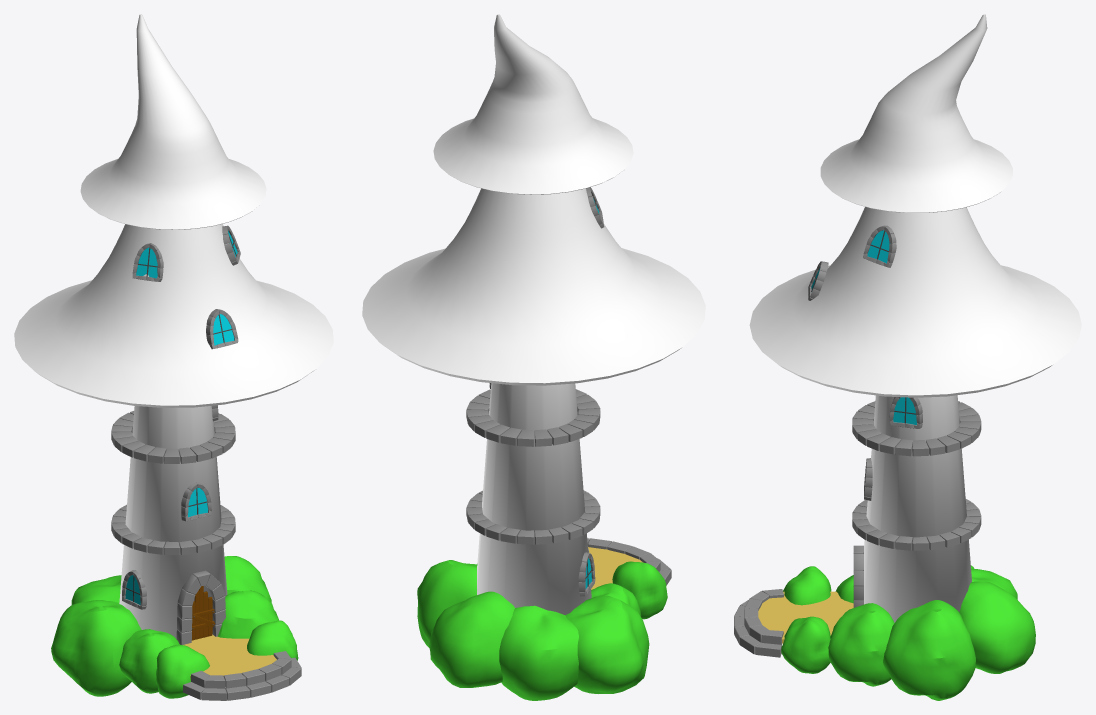
Rendered from torre_magos.glb.
The picture shows the model from 3 angles, left to right: view 1: azimuth 30°, elevation 25°; view 2: azimuth 150°, elevation 25°; view 3: azimuth 270°, elevation 25°; orthographic projection. The views are drawn at different scales.
Parts seen in each view (by area): view 1: Tejado01, Tejado02, Cuerpo Torre, Sphere.003, Escalones, Piedra Torre 02, Piedra Torre 01, Sphere.004, Suelo, Sphere.002, Piedras Puerta, Sphere.001 (+8 smaller); view 2: Tejado01, Tejado02, Cuerpo Torre, Sphere.005, Sphere.003, Sphere.006, Piedra Torre 02, Sphere.007, Piedra Torre 01, Sphere.001, Suelo, Escalones (+2 smaller); view 3: Tejado01, Tejado02, Cuerpo Torre, Sphere.007, Sphere.006, Sphere.002, Piedra Torre 02, Piedra Torre 01, Sphere, Suelo, Escalones, Sphere.001 (+4 smaller).
Part boxes in pixels (bbox=[...]): Tejado01: bbox=[14, 224, 333, 407]; Tejado02: bbox=[80, 14, 266, 229]; Cuerpo Torre: bbox=[119, 406, 227, 638]; Sphere.003: bbox=[51, 600, 141, 696]; Escalones: bbox=[183, 651, 301, 700]; Piedra Torre 02: bbox=[111, 411, 235, 463]; Piedra Torre 01: bbox=[111, 504, 235, 554]; Sphere.004: bbox=[119, 629, 179, 693]; Suelo: bbox=[183, 634, 276, 679]; Sphere.002: bbox=[217, 590, 279, 638]; Piedras Puerta: bbox=[176, 570, 225, 644]; Sphere.001: bbox=[156, 644, 209, 698]; Tejado01: bbox=[362, 188, 705, 385]; Tejado02: bbox=[433, 14, 633, 194]; Cuerpo Torre: bbox=[477, 383, 591, 614]; Sphere.005: bbox=[499, 605, 578, 700]; Sphere.003: bbox=[565, 595, 649, 693]; Sphere.006: bbox=[429, 591, 514, 687]; Piedra Torre 02: bbox=[466, 389, 600, 446]; Sphere.007: bbox=[417, 560, 477, 647]; Piedra Torre 01: bbox=[466, 490, 600, 544]; Sphere.001: bbox=[612, 561, 667, 619]; Suelo: bbox=[588, 547, 642, 589]; Escalones: bbox=[587, 538, 671, 585]; Tejado01: bbox=[749, 207, 1081, 397]; Tejado02: bbox=[820, 14, 1012, 212]; Cuerpo Torre: bbox=[864, 395, 971, 622]; Sphere.007: bbox=[883, 600, 975, 700]; Sphere.006: bbox=[959, 581, 1035, 673]; Sphere.002: bbox=[828, 603, 894, 686]; Piedra Torre 02: bbox=[852, 401, 981, 456]; Piedra Torre 01: bbox=[852, 499, 981, 550]; Sphere: bbox=[781, 616, 830, 673]; Suelo: bbox=[758, 591, 853, 643]; Escalones: bbox=[734, 589, 783, 657]; Sphere.001: bbox=[783, 566, 831, 605].
Bounding box in the file's own units: 11.31 × 24.76 × 11.84.
